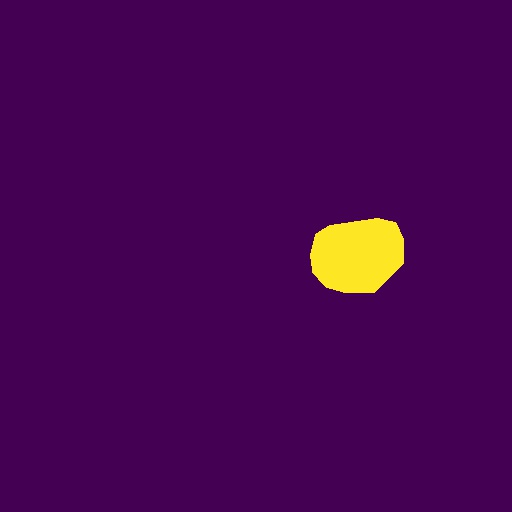Gliomia_tumour: (310, 218, 404, 293)
